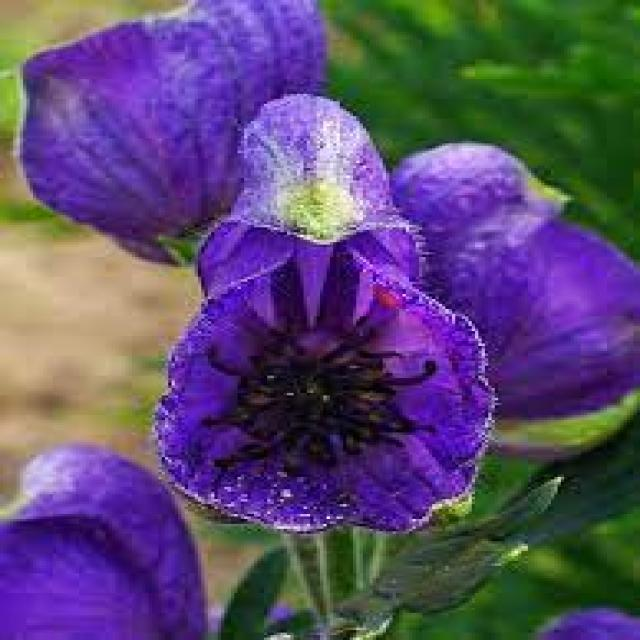Meetha: (94, 3, 640, 459), (0, 38, 532, 477), (207, 189, 640, 640), (0, 340, 351, 633)
